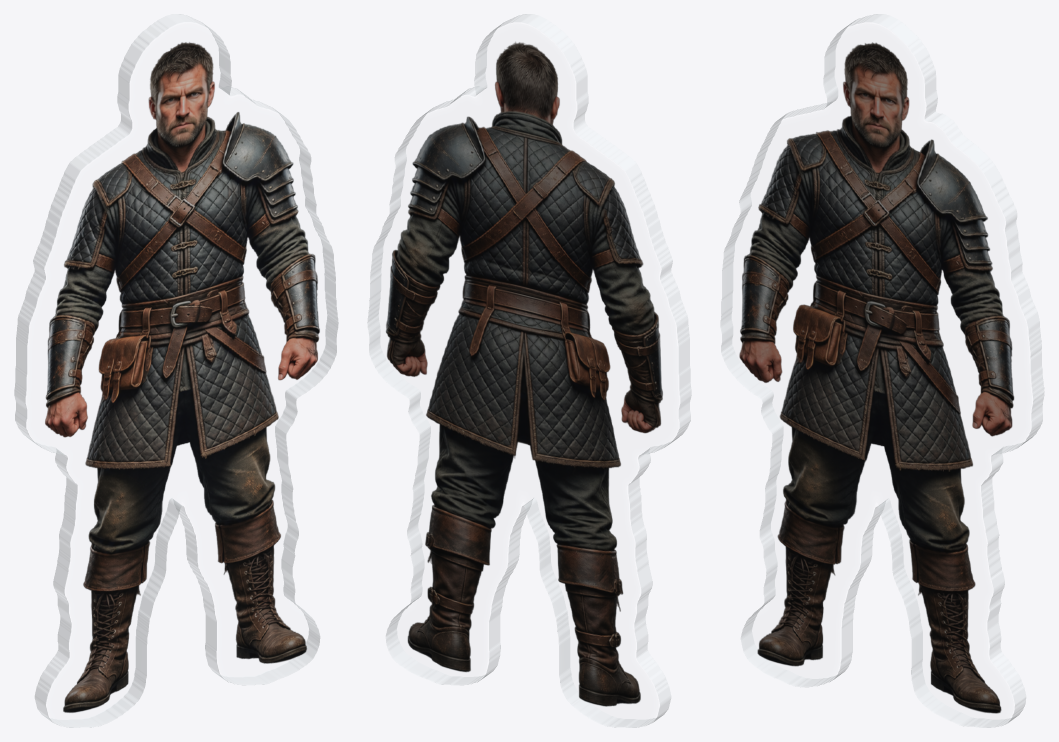
Rendered from gareth-empty.glb.
The picture shows the model from 3 angles, left to right: view 1: azimuth 30°, elevation 25°; view 2: azimuth 150°, elevation 25°; view 3: azimuth 330°, elevation 25°; orthographic projection.
Visible parts, largest first — view 1: preview_standee; view 2: preview_standee; view 3: preview_standee.
Part boxes in pixels (left/top/right/bottom): preview_standee: left=14, top=14, right=338, bottom=727; preview_standee: left=367, top=14, right=691, bottom=727; preview_standee: left=720, top=14, right=1044, bottom=727.
Size of the model in its own units: 0.6237 by 1.3 by 0.04.
3 materials, 2 textured.
